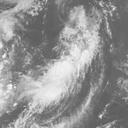cyclone: (46, 31, 101, 88)
